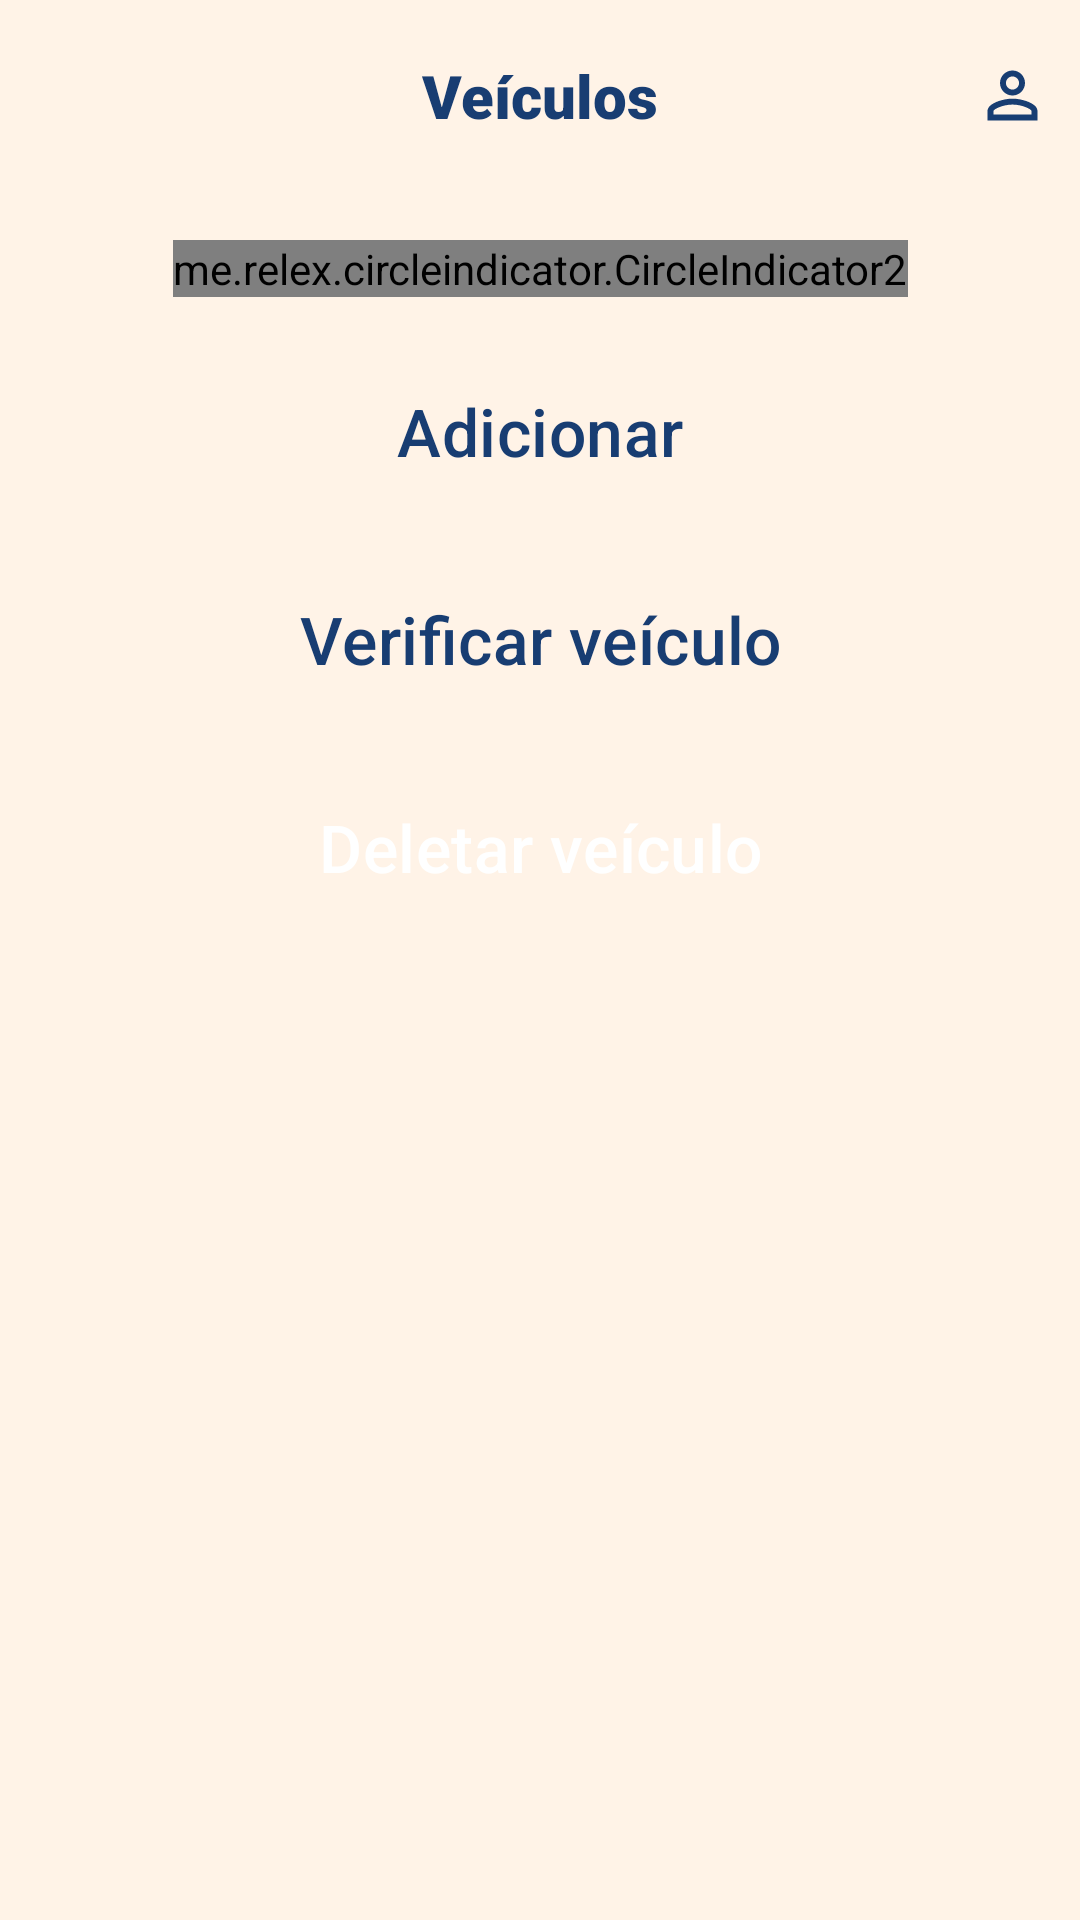

Locate icon controls on the screen. Image size 1080w x 1920h, boxes as bbox(x1, y1, x2, y2).
person: bbox(987, 70, 1038, 121)
